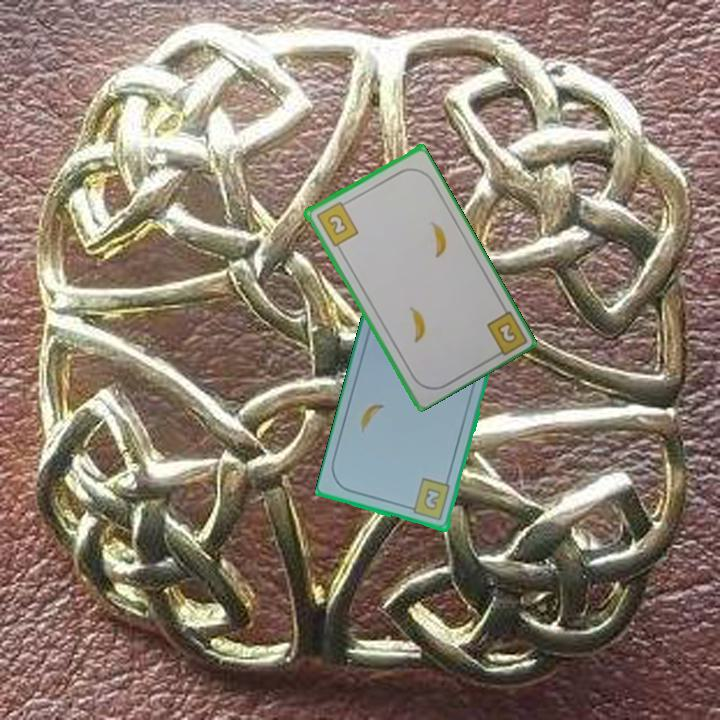2b: (312, 198, 361, 249), (404, 475, 453, 524), (493, 318, 520, 346)
